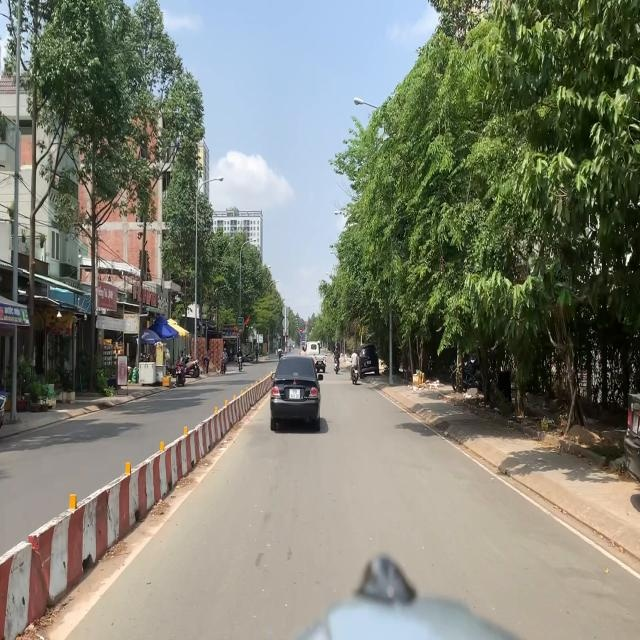bien_nguy_hiem: (299, 333, 302, 338), (300, 327, 302, 333)
